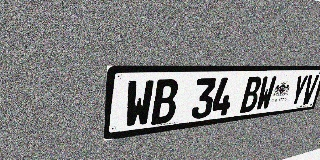3: (191, 78, 217, 120)
4: (211, 77, 235, 117)
B: (151, 79, 179, 125), (240, 76, 263, 113)
V: (300, 74, 319, 105)
W: (124, 80, 154, 128), (255, 76, 277, 111)
Y: (289, 75, 309, 107)
